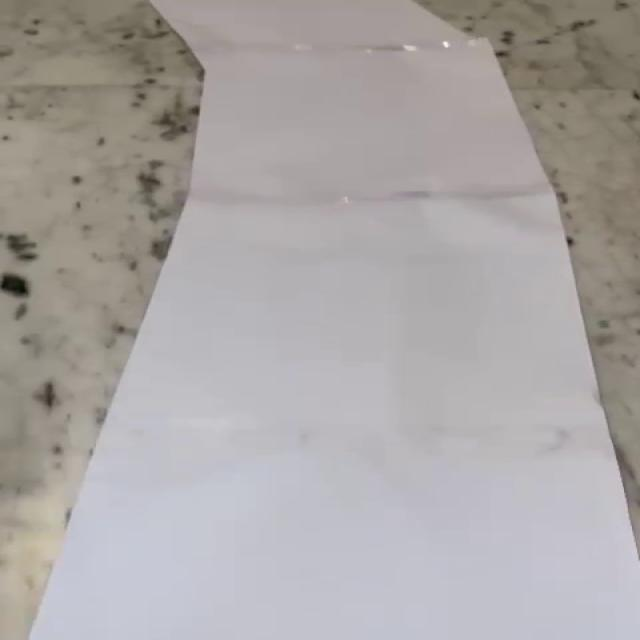road: (29, 0, 637, 640)
